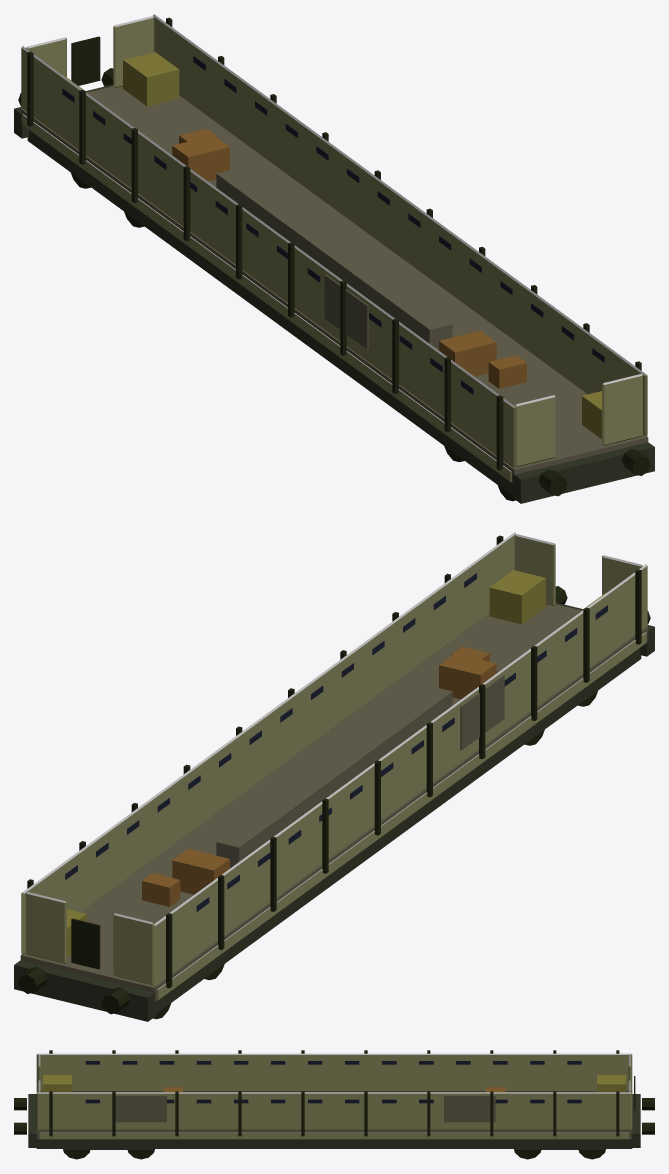
Rendered from SM_R2_VagonTropa_LOD0.fbx.
The picture shows the model from 3 angles, top to bottom: view 1: azimuth 30°, elevation 25°; view 2: azimuth 150°, elevation 25°; view 3: azimuth 270°, elevation 25°; orthographic projection. The views are drawn at different scales.
Visible parts, largest first — view 1: SM_R2_VagonTropa_LOD0; view 2: SM_R2_VagonTropa_LOD0; view 3: SM_R2_VagonTropa_LOD0.
Boxes of the visible parts, <box> form: SM_R2_VagonTropa_LOD0: <box>14,14,654,503</box>; SM_R2_VagonTropa_LOD0: <box>14,532,654,1021</box>; SM_R2_VagonTropa_LOD0: <box>14,1050,654,1159</box>.
Size of the model in its own units: 3.08 by 2.6 by 19.9.
